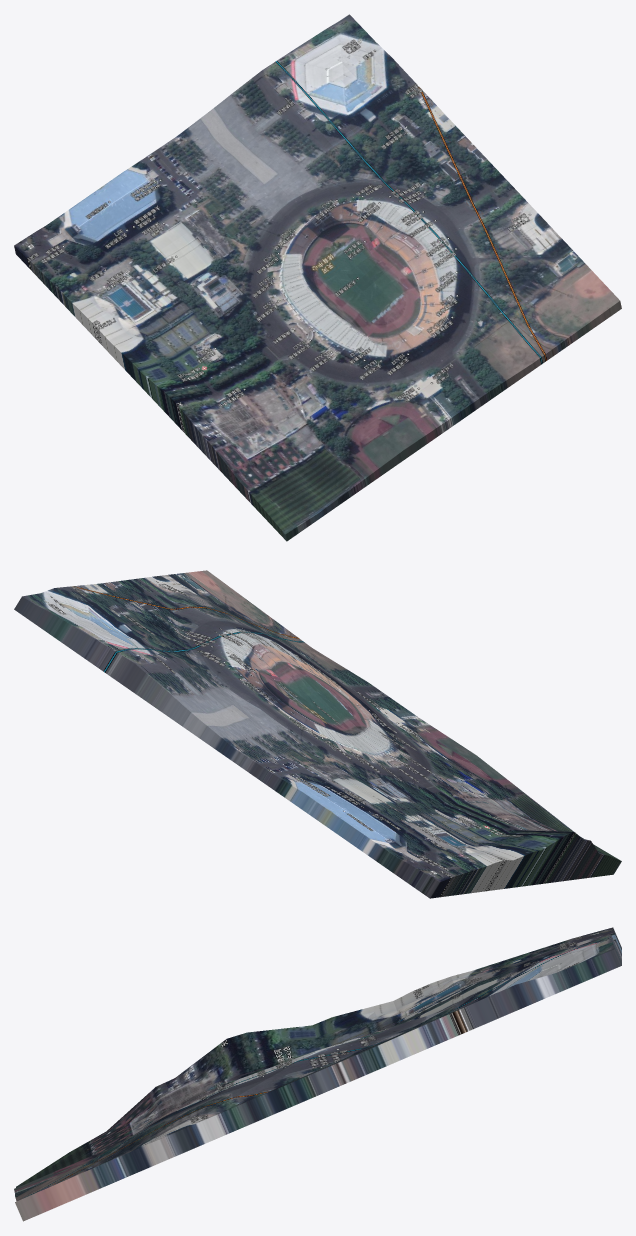
3 renders of one model, top to bottom at view 1: azimuth 30°, elevation 25°; view 2: azimuth 150°, elevation 25°; view 3: azimuth 270°, elevation 25°, orthographic. The views are drawn at different scales.
Parts seen in each view (by area): view 1: 0_7_22; view 2: 0_7_22; view 3: 0_7_22.
Part boxes in pixels (<box>): 0_7_22: <box>14,14,621,541</box>; 0_7_22: <box>14,570,621,898</box>; 0_7_22: <box>14,927,621,1221</box>.
Bounding box in the file's own units: 600 × 442 × 550.
Materials: 1 (1 with a texture image).
